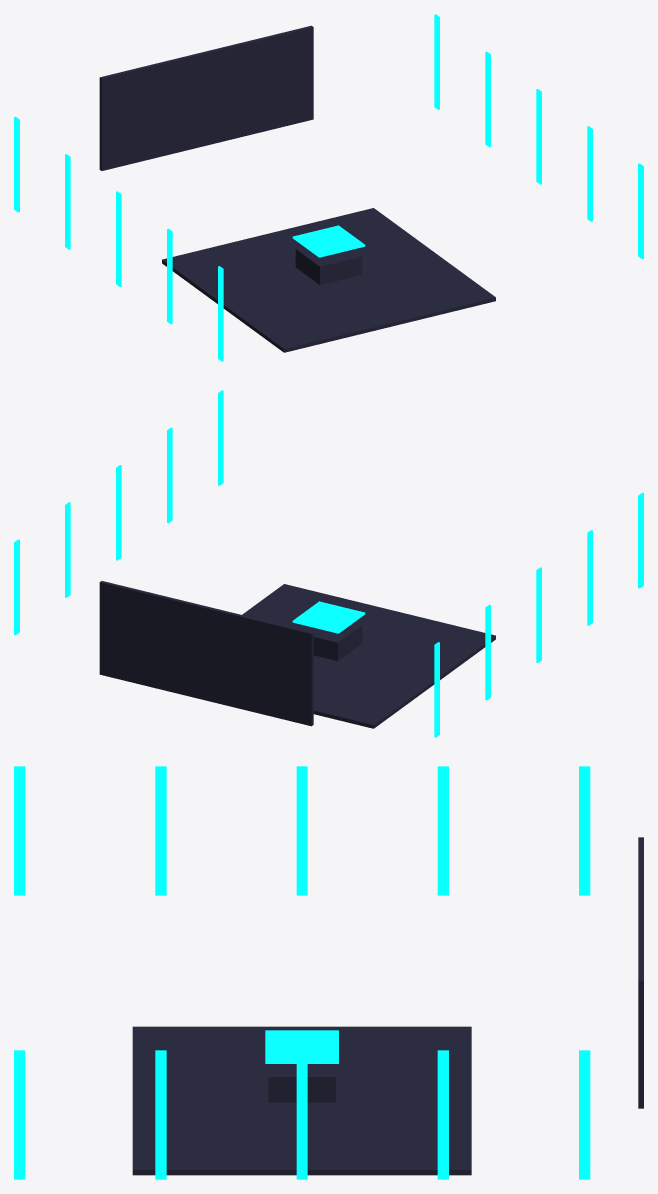
Rendered from cyber_neon_lab.glb.
3 views of the same model, one above another, from view 1: azimuth 30°, elevation 25°; view 2: azimuth 150°, elevation 25°; view 3: azimuth 270°, elevation 25° (orthographic). The views are drawn at different scales.
Parts seen in each view (by area): view 1: Cyber_Floor, Cyber_Wall_Back, Holo_Base, Holo_Ring, Neon_L_-2, Neon_R_-2, Neon_R_-1, Neon_L_1, Neon_L_2, Neon_R_2, Neon_L_-1, Neon_L_0 (+2 smaller); view 2: Cyber_Wall_Back, Cyber_Floor, Holo_Base, Holo_Ring, Neon_L_-2, Neon_R_-2, Neon_L_-1, Neon_R_1, Neon_L_2, Neon_R_2, Neon_R_-1, Neon_L_0 (+2 smaller); view 3: Cyber_Floor, Holo_Ring, Holo_Base, Cyber_Wall_Back, Neon_L_-2, Neon_R_-2, Neon_L_-1, Neon_R_-1, Neon_L_0, Neon_R_0, Neon_L_1, Neon_R_1 (+2 smaller).
Part boxes in pixels (x1,y1,x2,y2): Cyber_Floor: (162, 208, 495, 352); Cyber_Wall_Back: (99, 25, 313, 170); Holo_Base: (295, 247, 362, 285); Holo_Ring: (292, 225, 365, 257); Neon_L_-2: (218, 266, 223, 361); Neon_R_-2: (638, 163, 643, 259); Neon_R_-1: (587, 126, 592, 221); Neon_L_1: (65, 154, 70, 249); Neon_L_2: (14, 116, 19, 212); Neon_R_2: (434, 14, 439, 109); Neon_L_-1: (167, 228, 172, 324); Neon_L_0: (116, 191, 121, 286); Cyber_Wall_Back: (99, 581, 313, 726); Cyber_Floor: (242, 584, 495, 728); Holo_Base: (300, 623, 362, 661); Holo_Ring: (292, 601, 365, 633); Neon_L_-2: (638, 492, 643, 588); Neon_R_-2: (218, 390, 223, 485); Neon_L_-1: (587, 530, 592, 625); Neon_R_1: (65, 502, 70, 597); Neon_L_2: (434, 642, 439, 737); Neon_R_2: (14, 539, 19, 635); Neon_R_-1: (167, 427, 172, 523); Neon_L_0: (536, 567, 541, 662); Cyber_Floor: (132, 1026, 471, 1175); Holo_Ring: (265, 1030, 338, 1063); Holo_Base: (268, 1064, 335, 1102); Cyber_Wall_Back: (638, 837, 643, 1108); Neon_L_-2: (14, 766, 25, 895); Neon_R_-2: (14, 1050, 25, 1179); Neon_L_-1: (155, 766, 166, 895); Neon_R_-1: (155, 1050, 166, 1179); Neon_L_0: (296, 766, 307, 895); Neon_R_0: (296, 1050, 307, 1179); Neon_L_1: (437, 766, 448, 895); Neon_R_1: (437, 1050, 448, 1179).
Size of the model in its own units: 11.95 by 3.8 by 11.15.
